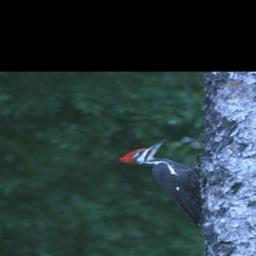Woodpecker: (121, 136, 208, 229)
